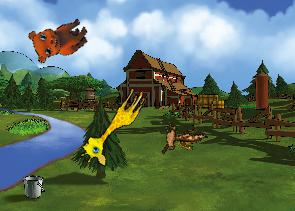bear: (23, 5, 93, 70)
eagle: (149, 109, 208, 166)
giraffe: (76, 79, 149, 171)
